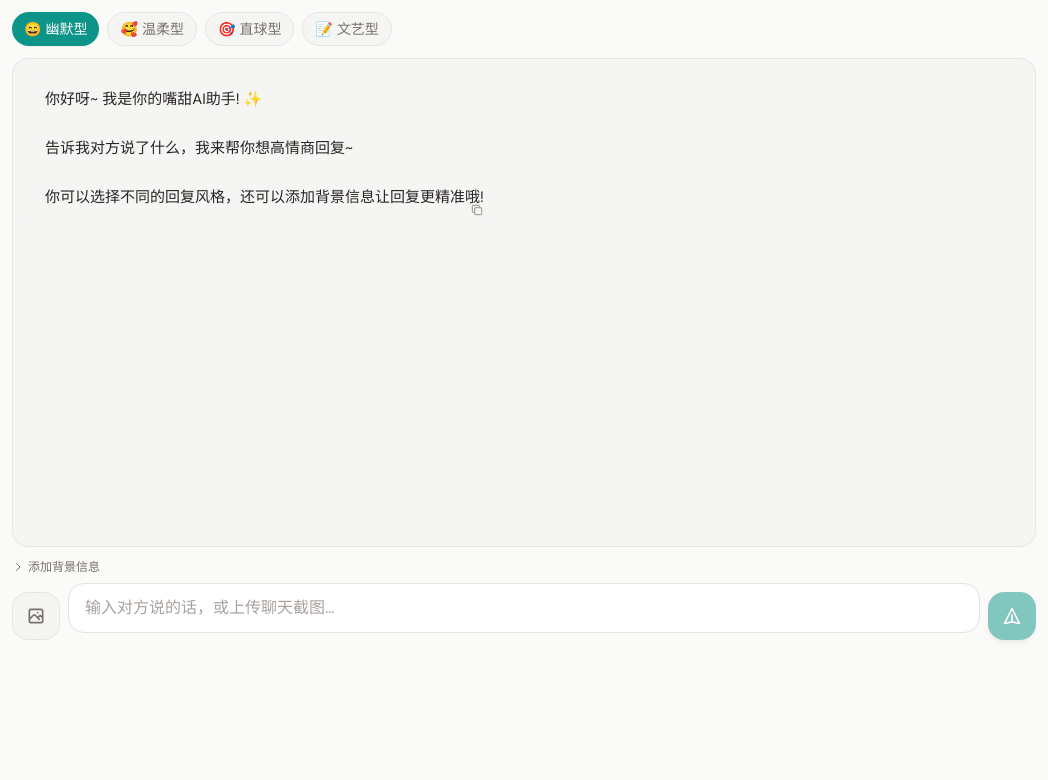
Test: ChatAssistant › shows AI response chunks in chat
In the text box with placeholder "输入对方说的话，或上传聊天截图...": (524, 608) [68,583,980,633], type "hello"
Then press Enter
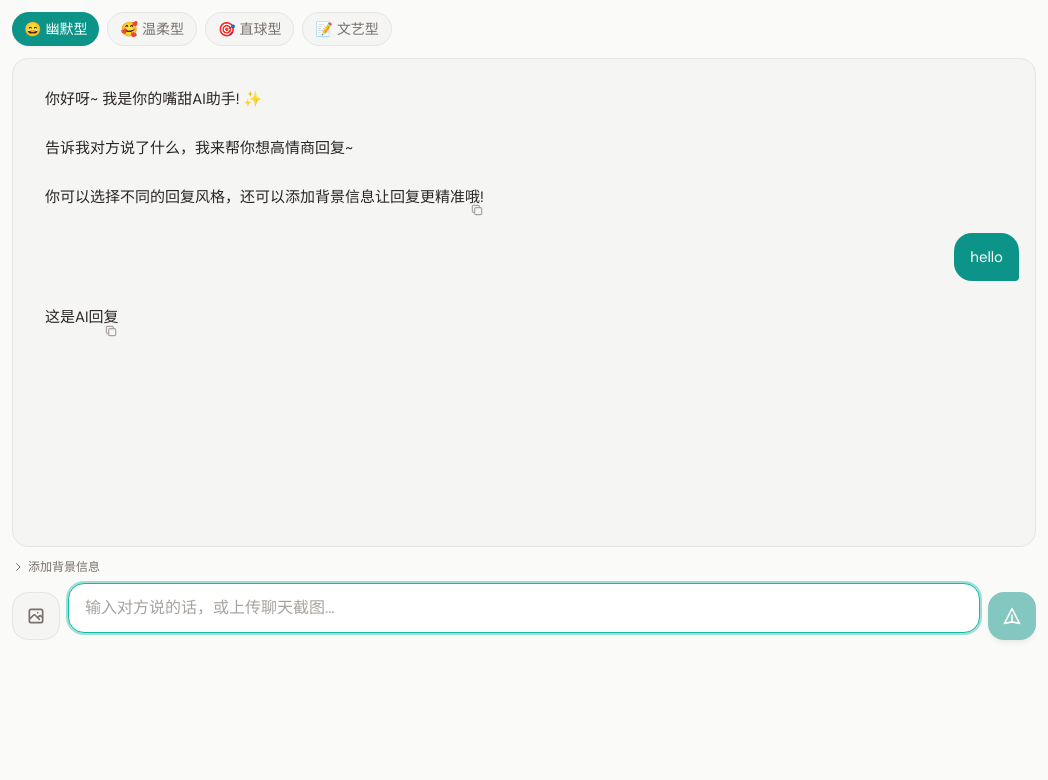
Now the text "这是AI回复" is shown, box [45,307,118,327]
